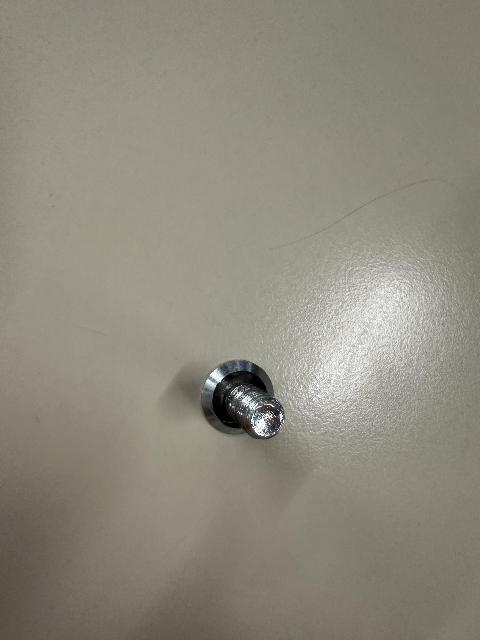Metal: (195, 340, 303, 452)
